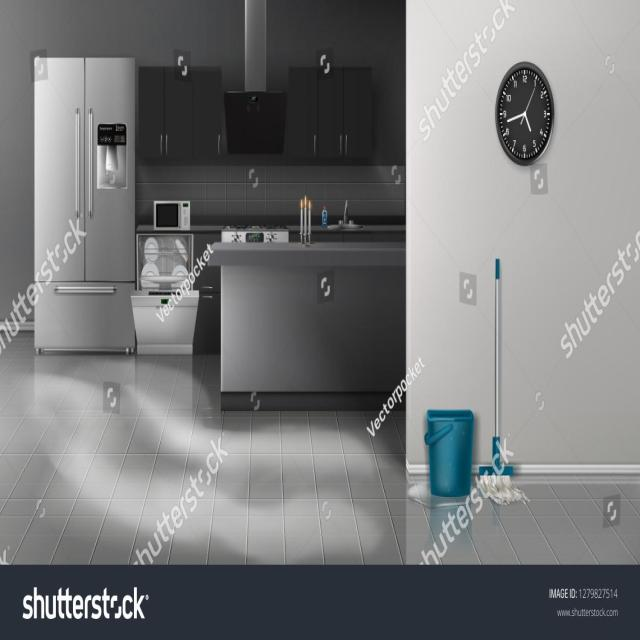dishwasher: (125, 229, 200, 360)
